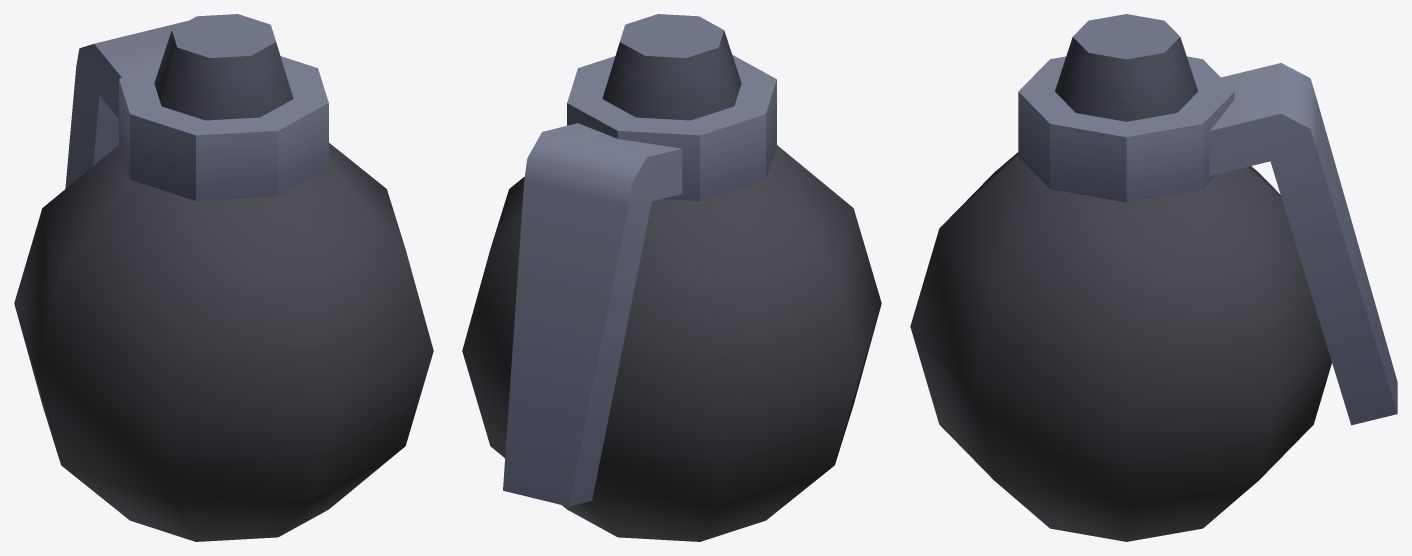
The model's file is grenade-b.glb.
The picture shows the model from 3 angles, left to right: view 1: azimuth 30°, elevation 25°; view 2: azimuth 150°, elevation 25°; view 3: azimuth 270°, elevation 25°; orthographic projection.
Visible parts, largest first — view 1: grenade-b; view 2: grenade-b; view 3: grenade-b.
Boxes of the visible parts, x1,y1,x2,y2 form: grenade-b: [14, 14, 433, 541]; grenade-b: [462, 14, 881, 541]; grenade-b: [910, 14, 1397, 541].
Size of the model in its own units: 0.18 by 0.2111 by 0.2029.
1 material, 1 textured.
